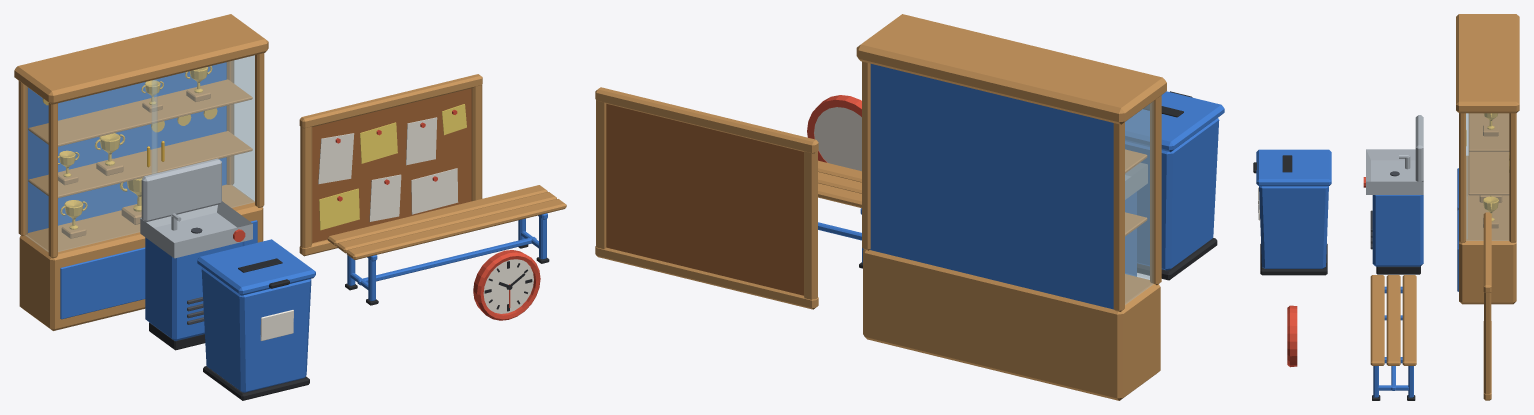
Rendered from school-hallway-set.glb.
The picture shows the model from 3 angles, left to right: view 1: azimuth 30°, elevation 25°; view 2: azimuth 150°, elevation 25°; view 3: azimuth 270°, elevation 25°; orthographic projection. The views are drawn at different scales.
Visible parts, largest first — view 1: TrophyCase_Frame, Door_L, Door_R, Bin_Body, Board_Cork, Board_Papers, Fountain_Bowl, Seat, TrophyCase_SideGlass, Board_Frame, Fountain_Cabinet, Lid (+10 smaller); view 2: TrophyCase_Frame, Board_Cork, Board_Frame, Bin_Body, TrophyCase_SideGlass, Door_L, Lid, Clock_Body, Seat, Clock_Rim, Fountain_Cabinet, Bin_Base (+1 smaller); view 3: TrophyCase_Frame, Bin_Body, TrophyCase_SideGlass, Seat, Fountain_Cabinet, Fountain_Bowl, Lid, Board_Frame, Bench_Frame, Clock_Rim, Bin_Base, Fountain_Kick (+2 smaller).
Part boxes in pixels (x1,y1,x2,y2): TrophyCase_Frame: [14, 14, 268, 330]; Door_L: [58, 79, 157, 251]; Door_R: [152, 55, 254, 207]; Bin_Body: [201, 268, 311, 392]; Board_Cork: [312, 88, 471, 242]; Board_Papers: [318, 104, 466, 230]; Fountain_Bowl: [140, 158, 252, 258]; Seat: [327, 185, 566, 259]; TrophyCase_SideGlass: [25, 55, 254, 251]; Board_Frame: [299, 74, 482, 256]; Fountain_Cabinet: [145, 237, 244, 341]; Lid: [197, 239, 315, 295]; TrophyCase_Frame: [856, 14, 1166, 400]; Board_Cork: [606, 104, 803, 295]; Board_Frame: [595, 87, 818, 309]; Bin_Body: [1125, 118, 1219, 270]; TrophyCase_SideGlass: [1125, 101, 1153, 304]; Door_L: [1125, 104, 1149, 279]; Lid: [1125, 91, 1224, 152]; Clock_Body: [814, 107, 861, 171]; Seat: [818, 160, 861, 208]; Clock_Rim: [807, 95, 861, 162]; Fountain_Cabinet: [1125, 192, 1136, 276]; Bin_Base: [1137, 238, 1217, 280]; TrophyCase_Frame: [1456, 14, 1519, 304]; Bin_Body: [1258, 186, 1328, 268]; TrophyCase_SideGlass: [1466, 113, 1508, 240]; Seat: [1370, 275, 1416, 365]; Fountain_Cabinet: [1370, 195, 1423, 266]; Fountain_Bowl: [1366, 115, 1423, 194]; Lid: [1256, 149, 1331, 186]; Board_Frame: [1483, 212, 1491, 400]; Bench_Frame: [1373, 286, 1413, 397]; Clock_Rim: [1287, 305, 1297, 367]; Bin_Base: [1260, 244, 1327, 275]; Fountain_Kick: [1376, 266, 1420, 274].
Size of the model in its own units: 14.2 by 7.05 by 8.35.
